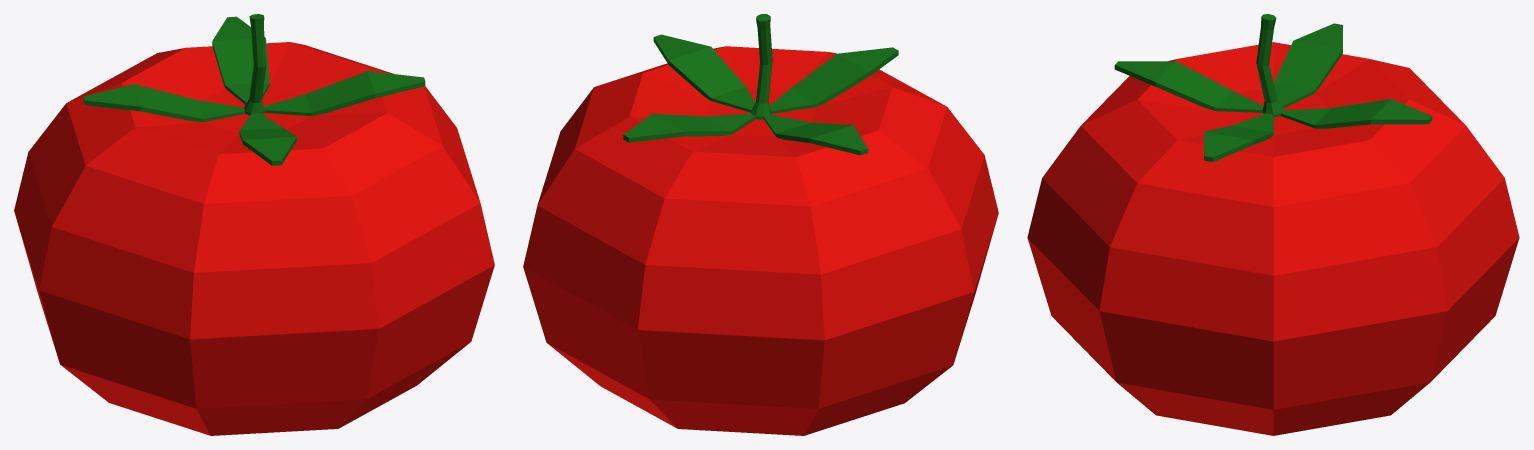
File: Tomato_01.fbx
The picture shows the model from 3 angles, left to right: view 1: azimuth 30°, elevation 25°; view 2: azimuth 150°, elevation 25°; view 3: azimuth 270°, elevation 25°; orthographic projection.
Visible parts, largest first — view 1: Tomato_Circle.024; view 2: Tomato_Circle.024; view 3: Tomato_Circle.024.
Part boxes in pixels (box(x1,y1,x2,y2)): Tomato_Circle.024: box(14, 14, 494, 435); Tomato_Circle.024: box(523, 14, 998, 435); Tomato_Circle.024: box(1027, 14, 1519, 435).
Bounding box in the file's own units: 10.47 × 8.32 × 10.47.
